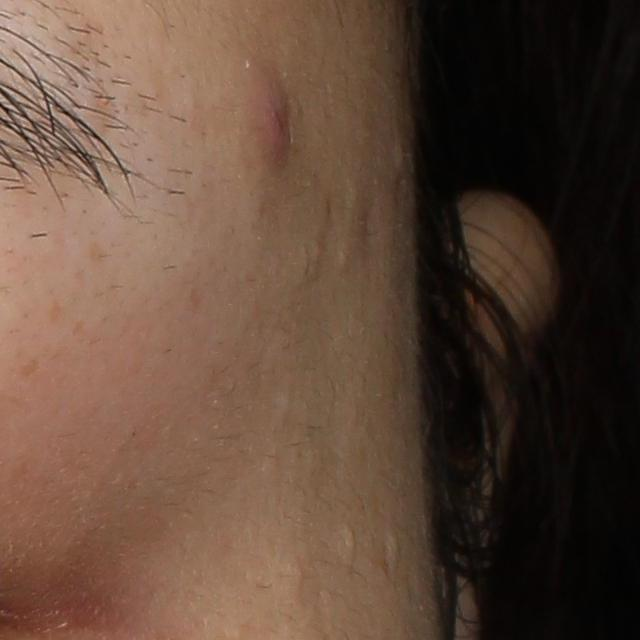papule: (245, 70, 296, 162)
